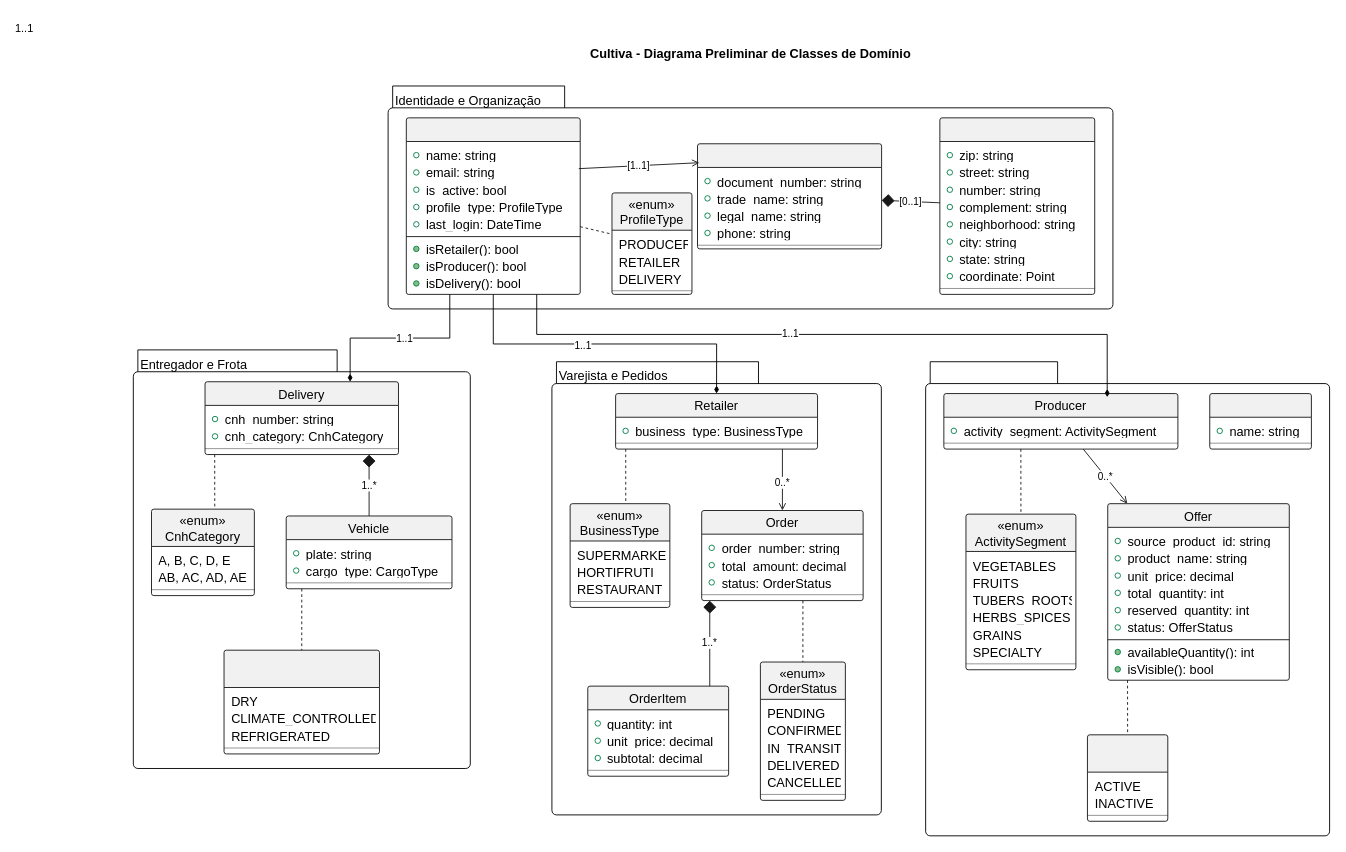
Some shapes in this 1346 by 852 pixel diagram are drawn without their labels. Here are the shapes that lost their labels. From the top down, the box of each, then its label:
(405, 117, 580, 294): User
(697, 143, 882, 249): Company
(939, 117, 1095, 294): Address
(1209, 393, 1311, 449): Category
(925, 361, 1330, 836): Produtor e Ofertas
(223, 649, 379, 754): «enum» CargoType
(1087, 734, 1168, 821): «enum» OfferStatus
